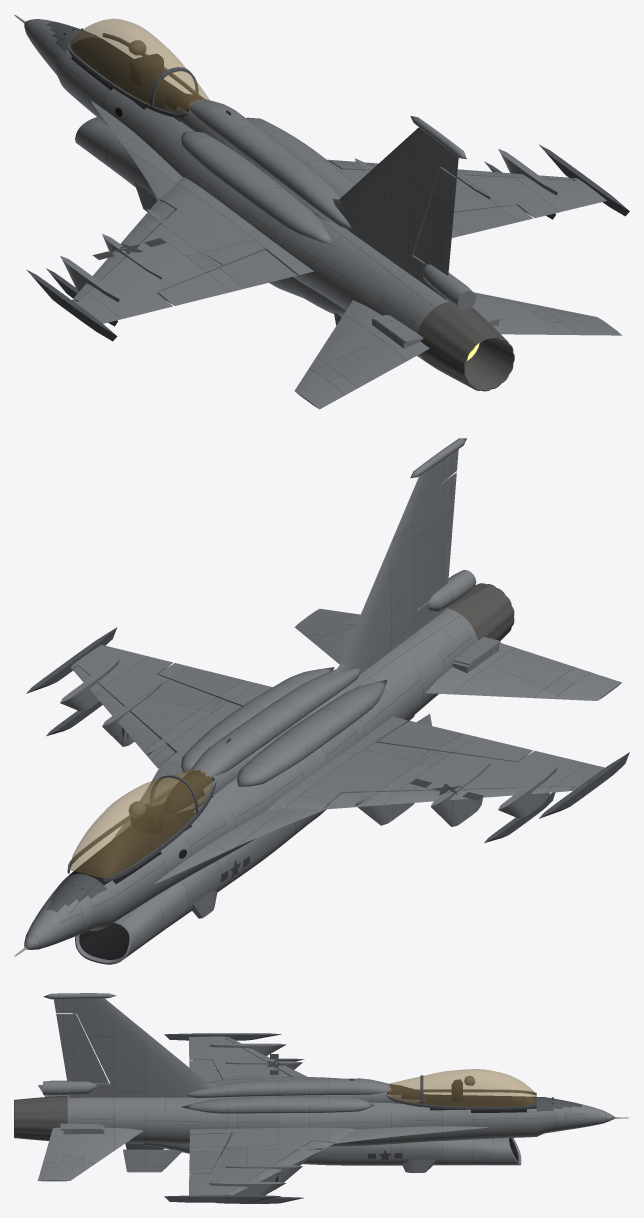
3 views of the same model, one above another, from view 1: azimuth 30°, elevation 25°; view 2: azimuth 150°, elevation 25°; view 3: azimuth 270°, elevation 25° (orthographic). The views are drawn at different scales.
Visible parts, largest first — view 1: body, canopy, opt_cft, elevator_L, opt_dorsal, elevator_R, aileron_L, rudder, aileron_R, flap_le_L, airbrake, flap_le_R; view 2: body, canopy, opt_cft, elevator_L, opt_dorsal, aileron_L, rudder, aileron_R, flap_le_L, elevator_R, flap_le_R; view 3: body, canopy, opt_cft, elevator_R, opt_dorsal, rudder, aileron_R, flap_le_R, aileron_L, flap_le_L.
Boxes of the visible parts, box(x1,y1,x2,y2) form: body: box(14, 14, 629, 391); canopy: box(67, 18, 209, 117); opt_cft: box(181, 117, 355, 245); elevator_L: box(294, 300, 429, 409); opt_dorsal: box(189, 99, 351, 229); elevator_R: box(474, 292, 621, 335); aileron_L: box(158, 250, 296, 305); rudder: box(414, 167, 456, 275); aileron_R: box(451, 205, 532, 237); flap_le_L: box(73, 200, 175, 301); airbrake: box(374, 301, 500, 343); flap_le_R: box(327, 159, 573, 180); body: box(14, 438, 629, 964); canopy: box(67, 769, 216, 881); opt_cft: box(181, 667, 387, 786); elevator_L: box(425, 643, 622, 700); opt_dorsal: box(189, 668, 360, 777); aileron_L: box(378, 721, 532, 761); rudder: box(418, 472, 456, 608); aileron_R: box(158, 663, 272, 706); flap_le_L: box(325, 786, 573, 809); elevator_R: box(294, 608, 360, 663); flap_le_R: box(73, 665, 175, 768); body: box(14, 993, 629, 1203); canopy: box(385, 1069, 536, 1109); opt_cft: box(181, 1077, 374, 1113); elevator_R: box(37, 1127, 143, 1181); opt_dorsal: box(187, 1078, 391, 1097); rudder: box(56, 1013, 108, 1083); aileron_R: box(189, 1133, 231, 1173); flap_le_R: box(226, 1141, 334, 1195); aileron_L: box(189, 1059, 221, 1082); flap_le_L: box(225, 1038, 307, 1076).
Bounding box in the file's own units: 9.46 × 4.61 × 15.04.
Materials: 8 (2 with a texture image).
